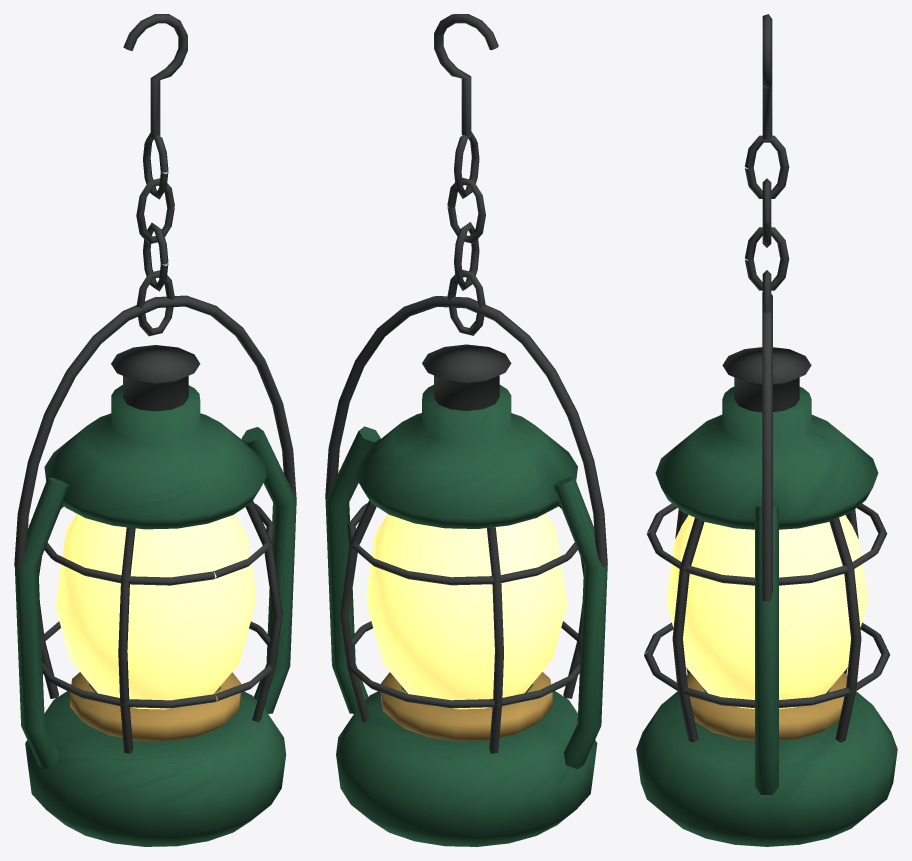
File: lantern.glb
The picture shows the model from 3 angles, left to right: view 1: azimuth 30°, elevation 25°; view 2: azimuth 150°, elevation 25°; view 3: azimuth 270°, elevation 25°; orthographic projection.
Visible parts, largest first — view 1: body, glass; view 2: body, glass; view 3: body, glass.
Part boxes in pixels (bbox=[...]): body: bbox=[14, 14, 296, 846]; glass: bbox=[55, 513, 256, 709]; body: bbox=[325, 14, 607, 846]; glass: bbox=[366, 513, 567, 709]; body: bbox=[636, 14, 897, 846]; glass: bbox=[666, 515, 867, 708].
Size of the model in its own units: 0.2176 by 0.5833 by 0.176.
Materials: 3 (1 with a texture image).
